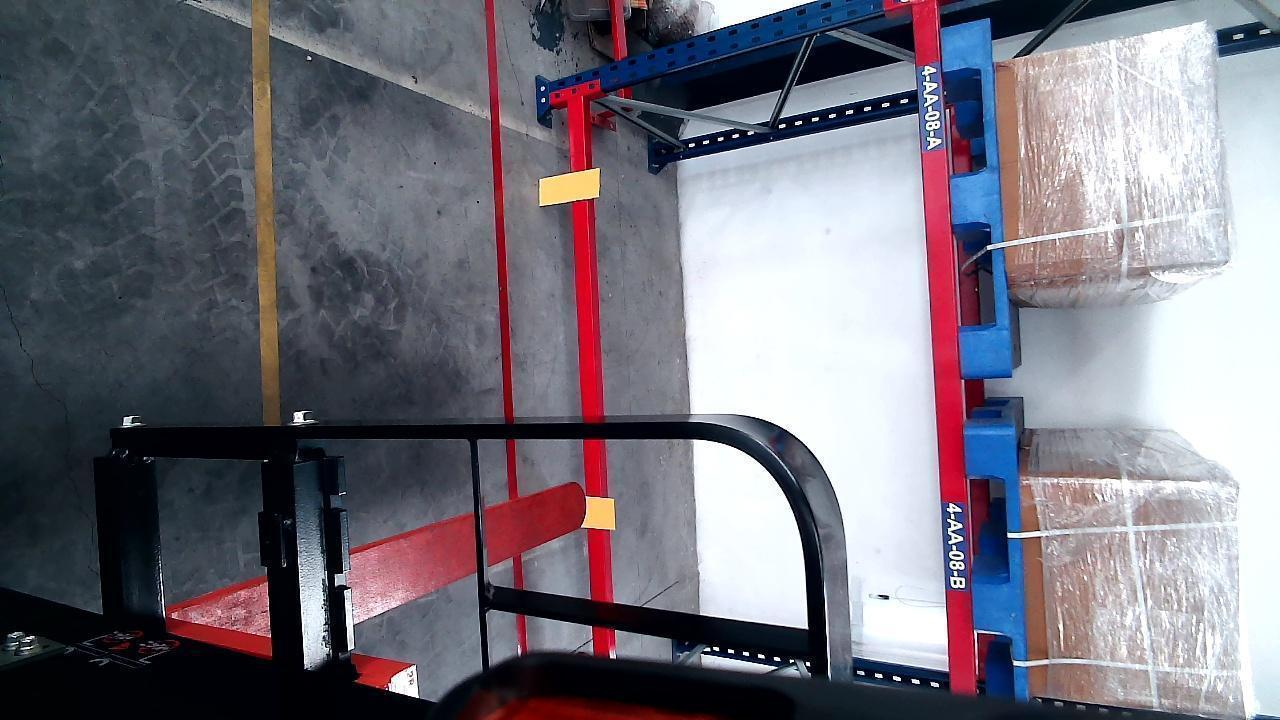red_line: (484, 6, 529, 653)
yellow_line: (253, 0, 280, 416)
